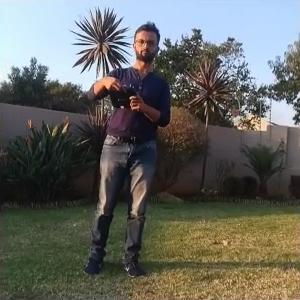follow: (77, 14, 175, 283)
